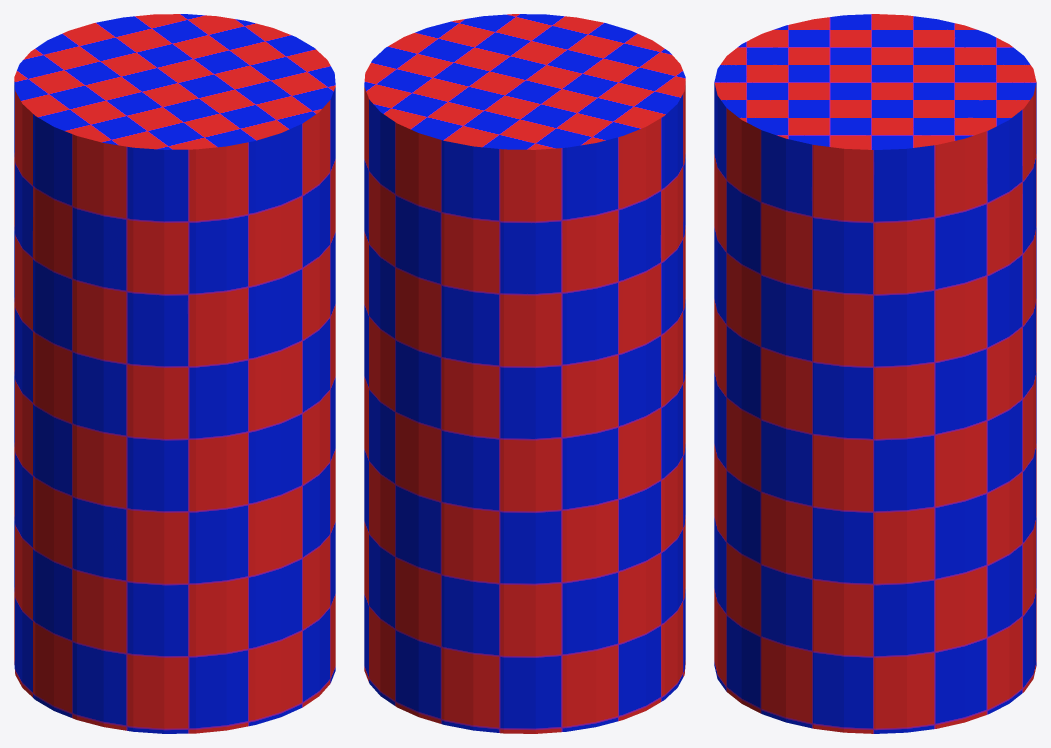
The model's file is Pole.obj.
3 views of the same model, side by side, from view 1: azimuth 30°, elevation 25°; view 2: azimuth 150°, elevation 25°; view 3: azimuth 270°, elevation 25° (orthographic).
Visible parts, largest first — view 1: 円柱; view 2: 円柱; view 3: 円柱.
Boxes of the visible parts, bbox=[...] form: 円柱: bbox=[14, 14, 335, 733]; 円柱: bbox=[364, 14, 685, 733]; 円柱: bbox=[714, 14, 1036, 733].
Size of the model in its own units: 2 by 4 by 2.
1 material, 1 textured.
